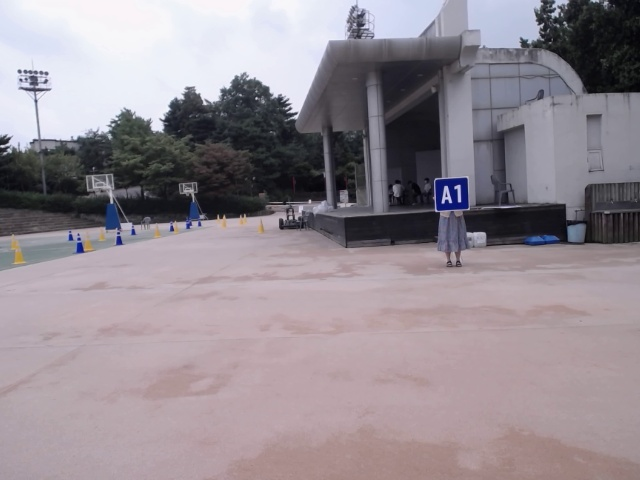delivery_a1: (435, 177, 470, 211)
